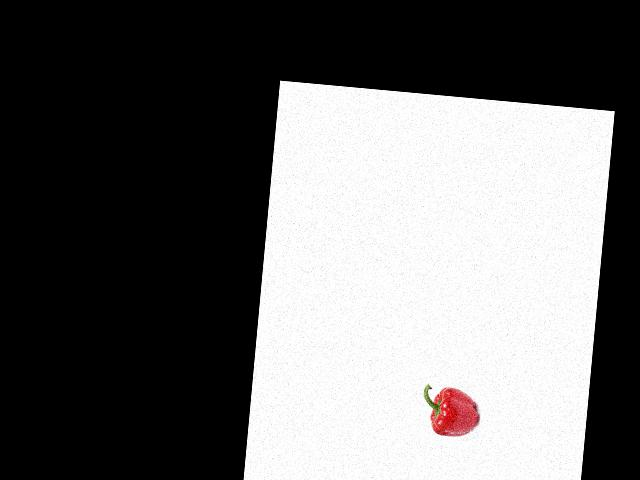bell_pepper: (418, 381, 482, 443)
